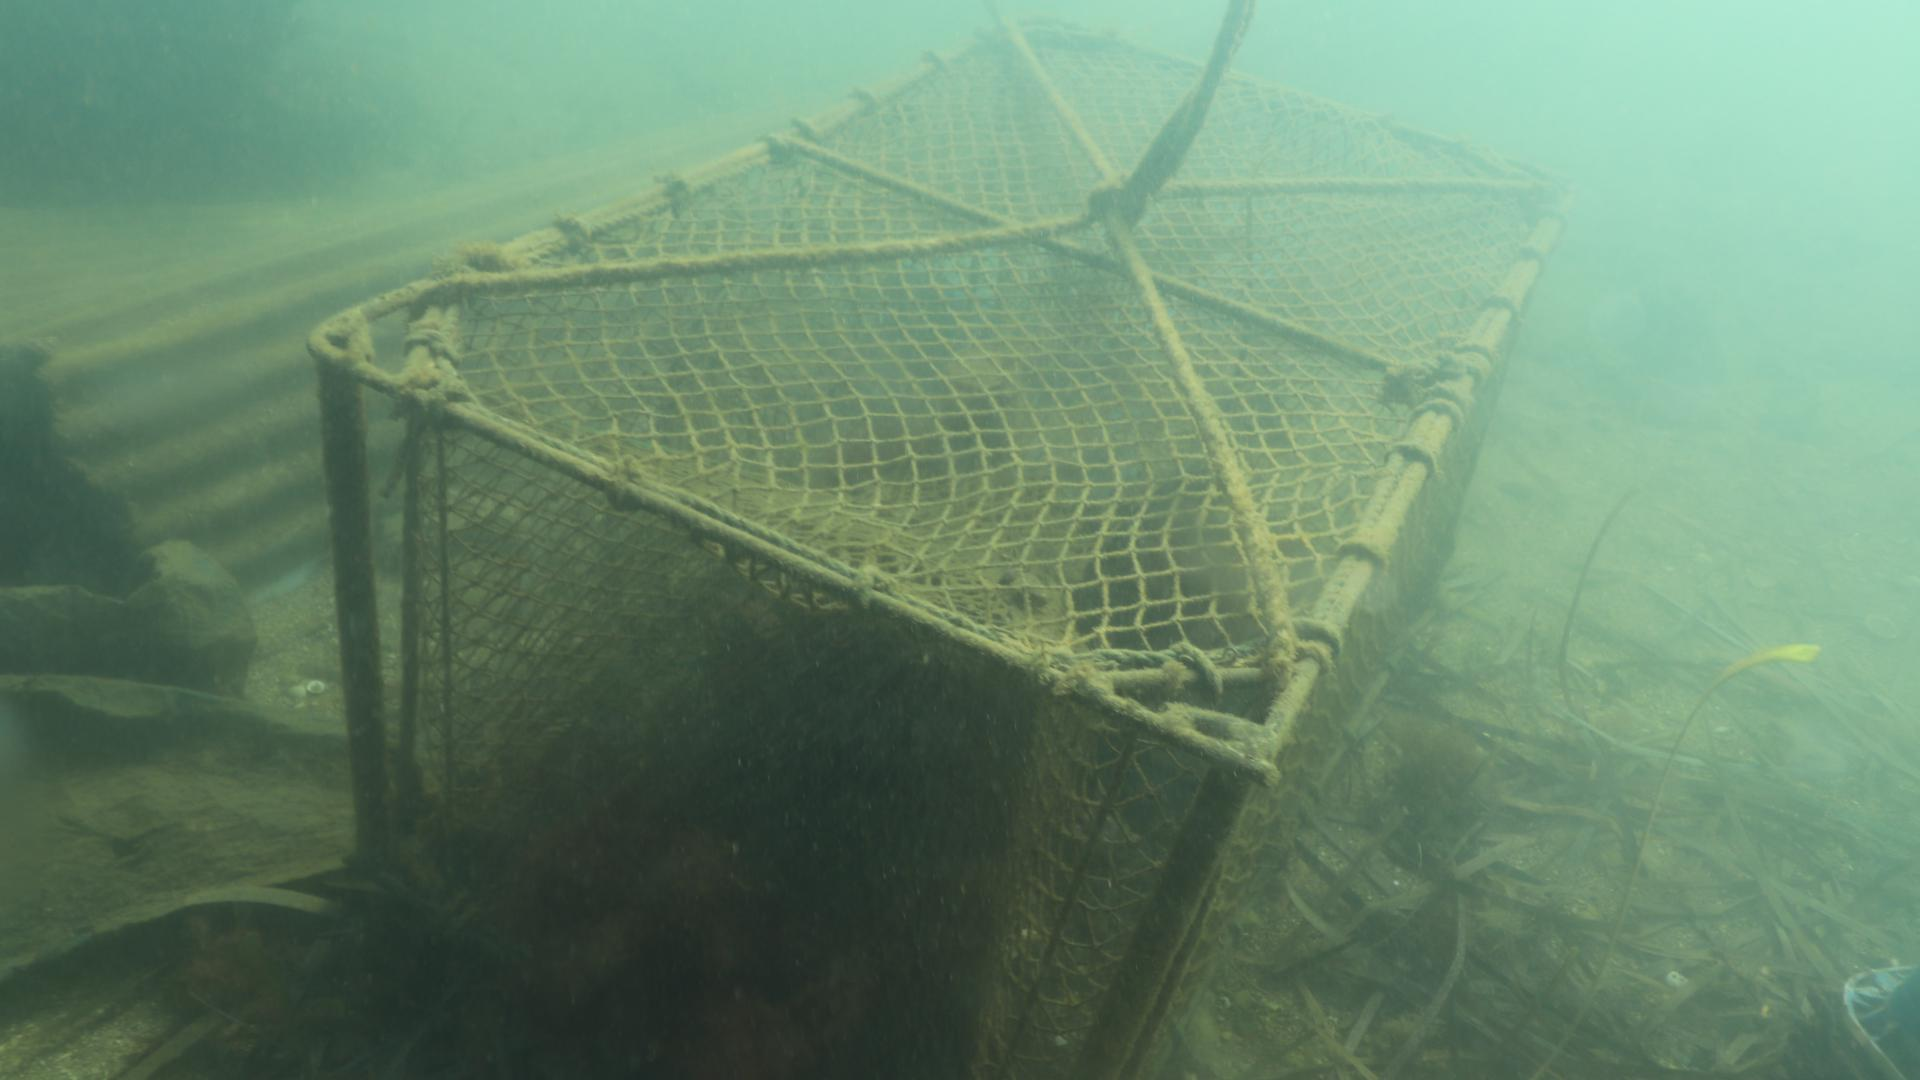bundle of ropes: (1091, 0, 1263, 228)
rectangular fish trap: (302, 16, 1578, 1080)
